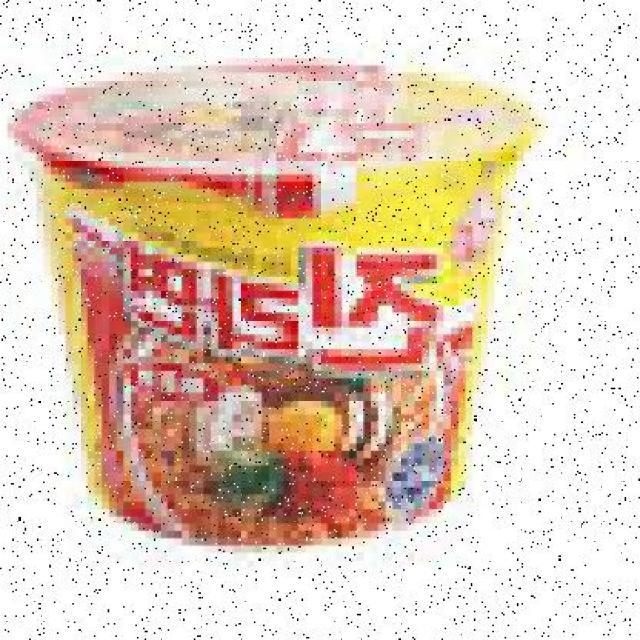Miscellaneous: (18, 62, 534, 538)
